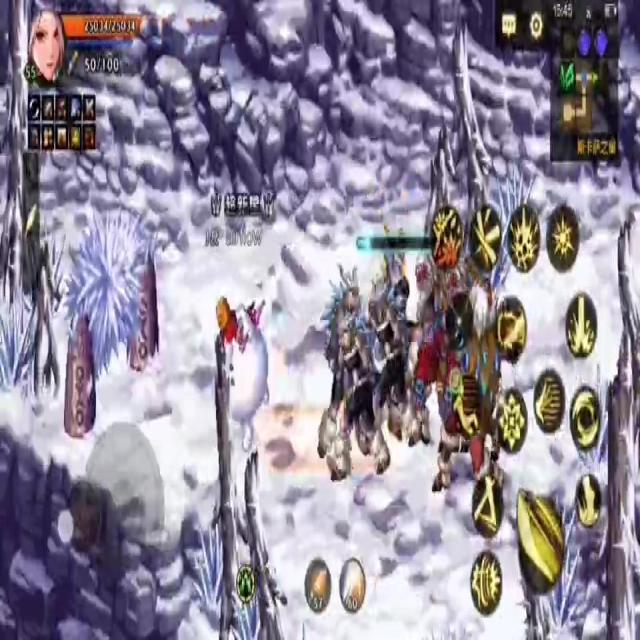player: (215, 291, 275, 456)
